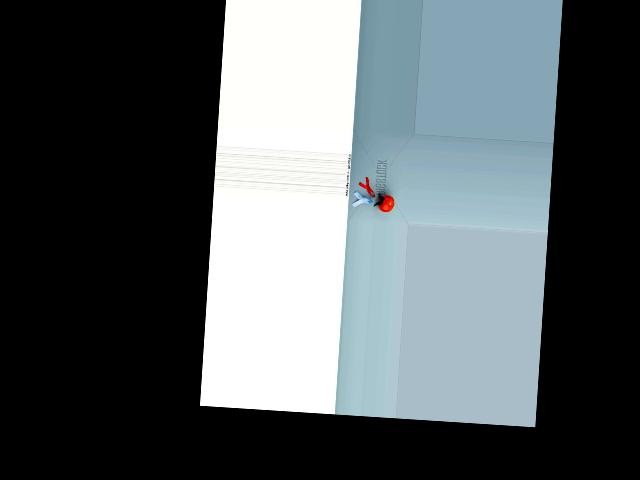tomato: (377, 194, 394, 212)
